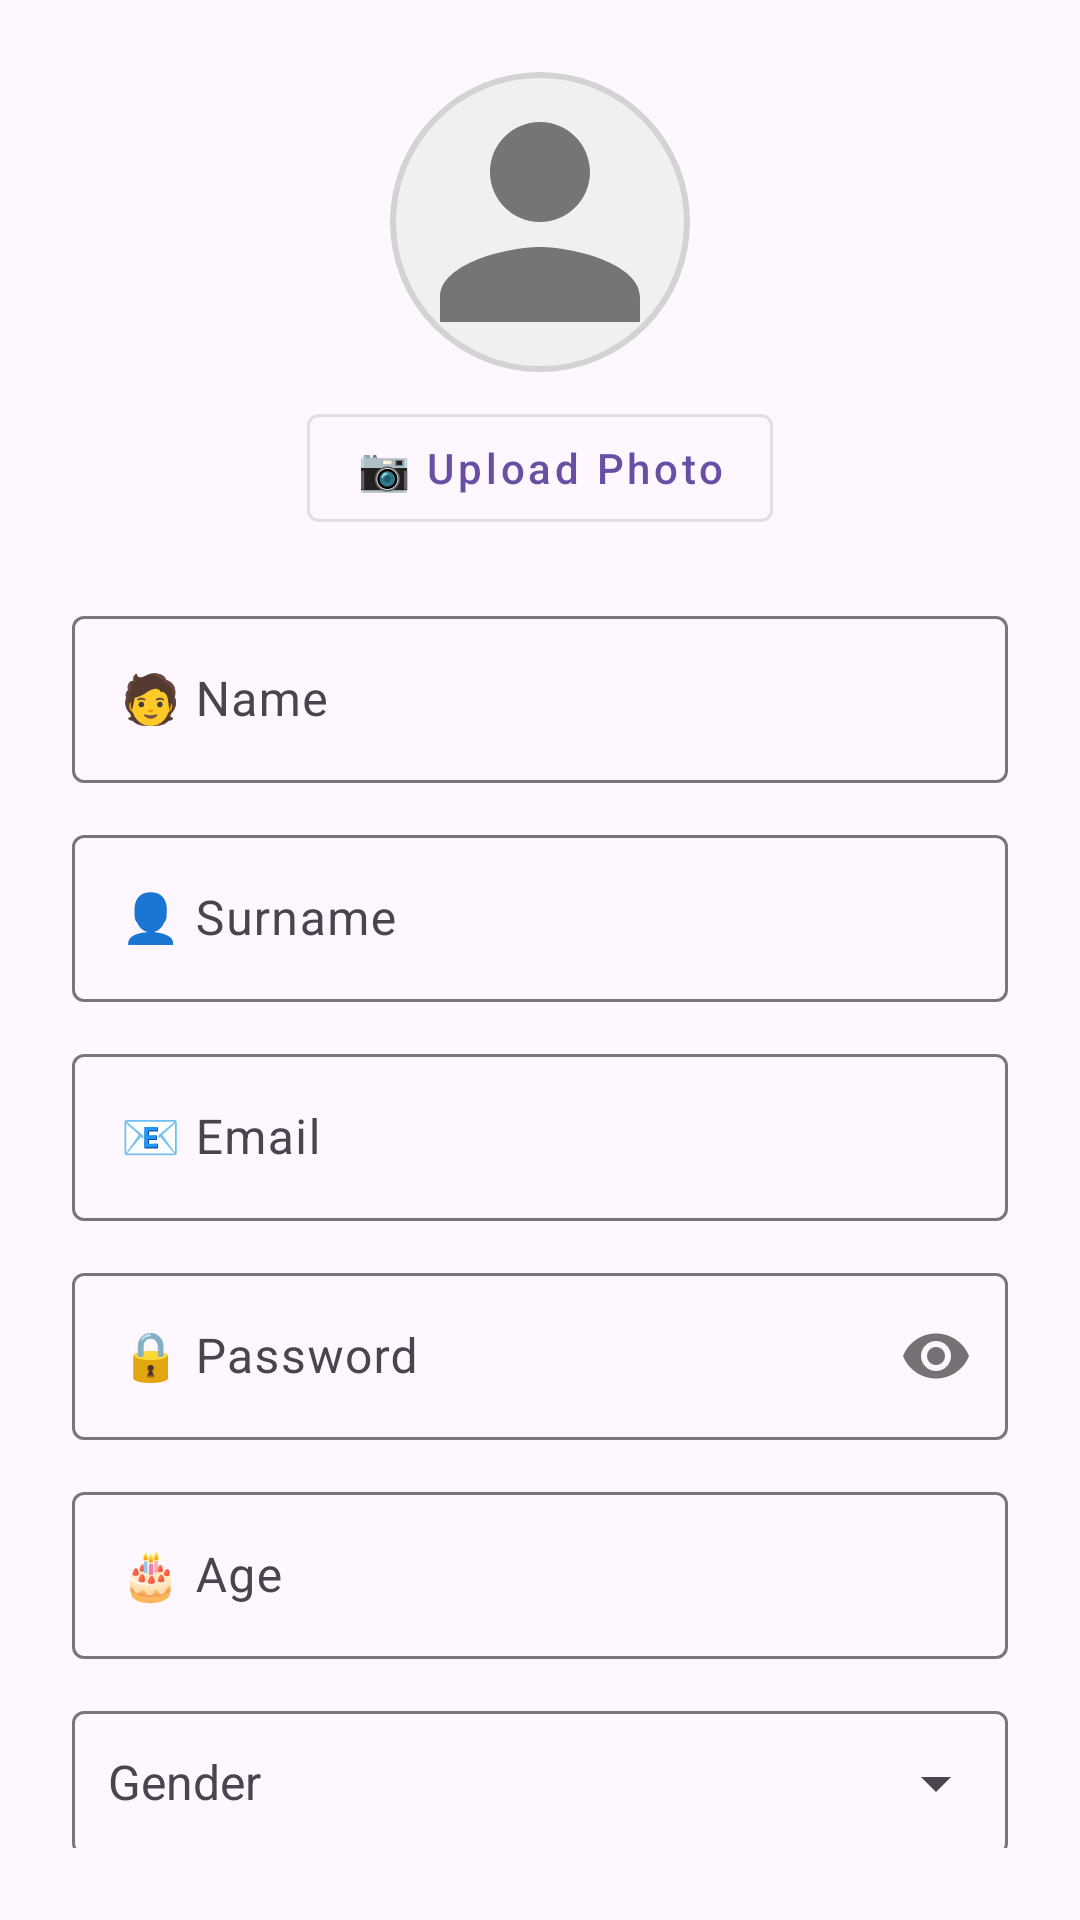

Screen size 1080×1920. Icon name, then its center in pixels as (x,y):
Profile Photo: (540,222)
